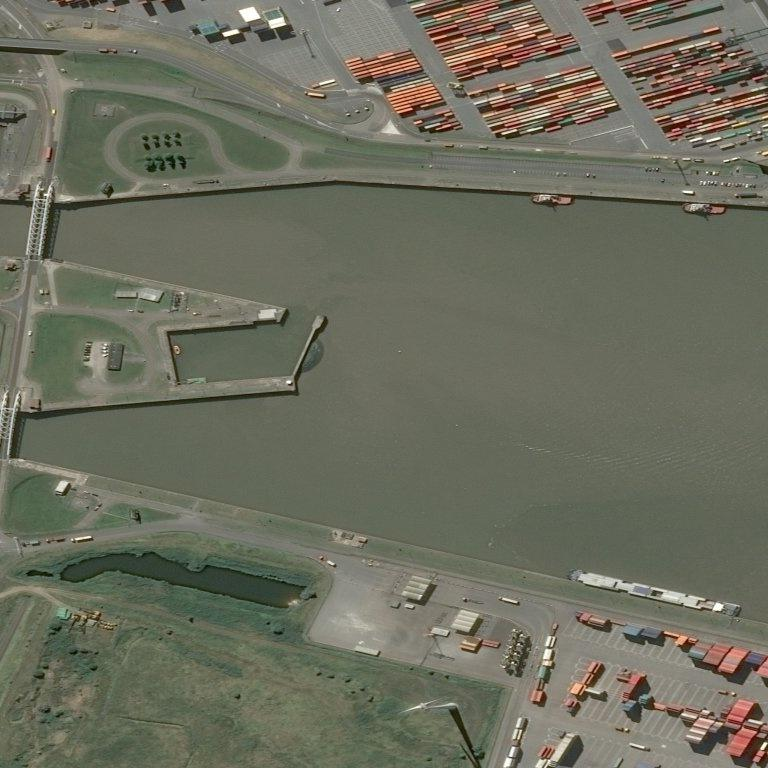ship: (560, 563, 745, 620), (522, 191, 566, 209), (673, 201, 719, 217), (530, 194, 536, 204), (681, 204, 685, 213), (566, 570, 572, 575), (567, 196, 570, 200), (569, 48, 573, 51), (737, 605, 741, 608), (721, 58, 724, 61), (175, 345, 178, 348), (731, 615, 734, 617), (153, 353, 155, 354), (720, 207, 724, 207), (177, 348, 177, 351), (7, 353, 7, 354)
